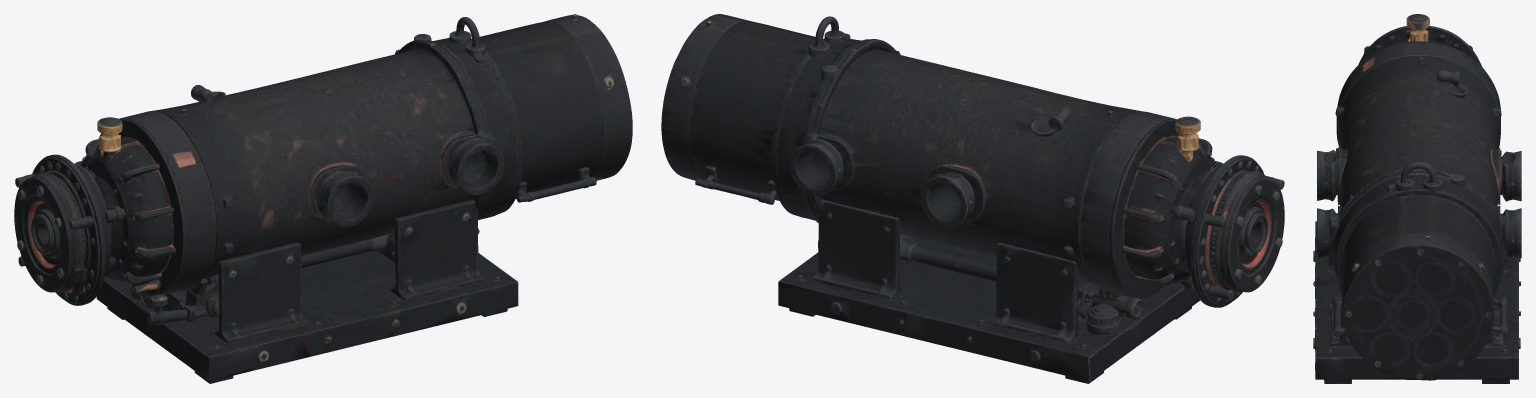
Rendered from tubebase.glb.
3 renders of one model, left to right at view 1: azimuth 30°, elevation 25°; view 2: azimuth 150°, elevation 25°; view 3: azimuth 270°, elevation 25°, orthographic. The views are drawn at different scales.
Bounding box in the file's own units: 1.9 × 0.8279 × 0.6867.
1 material, 1 textured.
